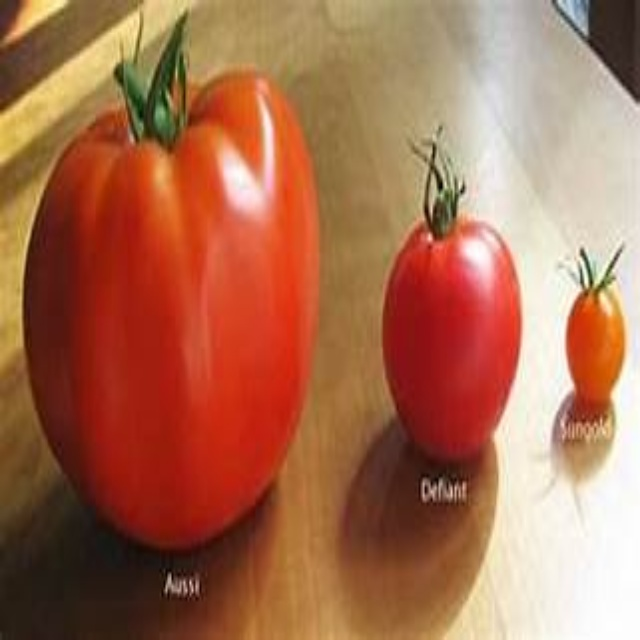tomato: (11, 59, 322, 556), (365, 203, 525, 458), (560, 277, 639, 404)
